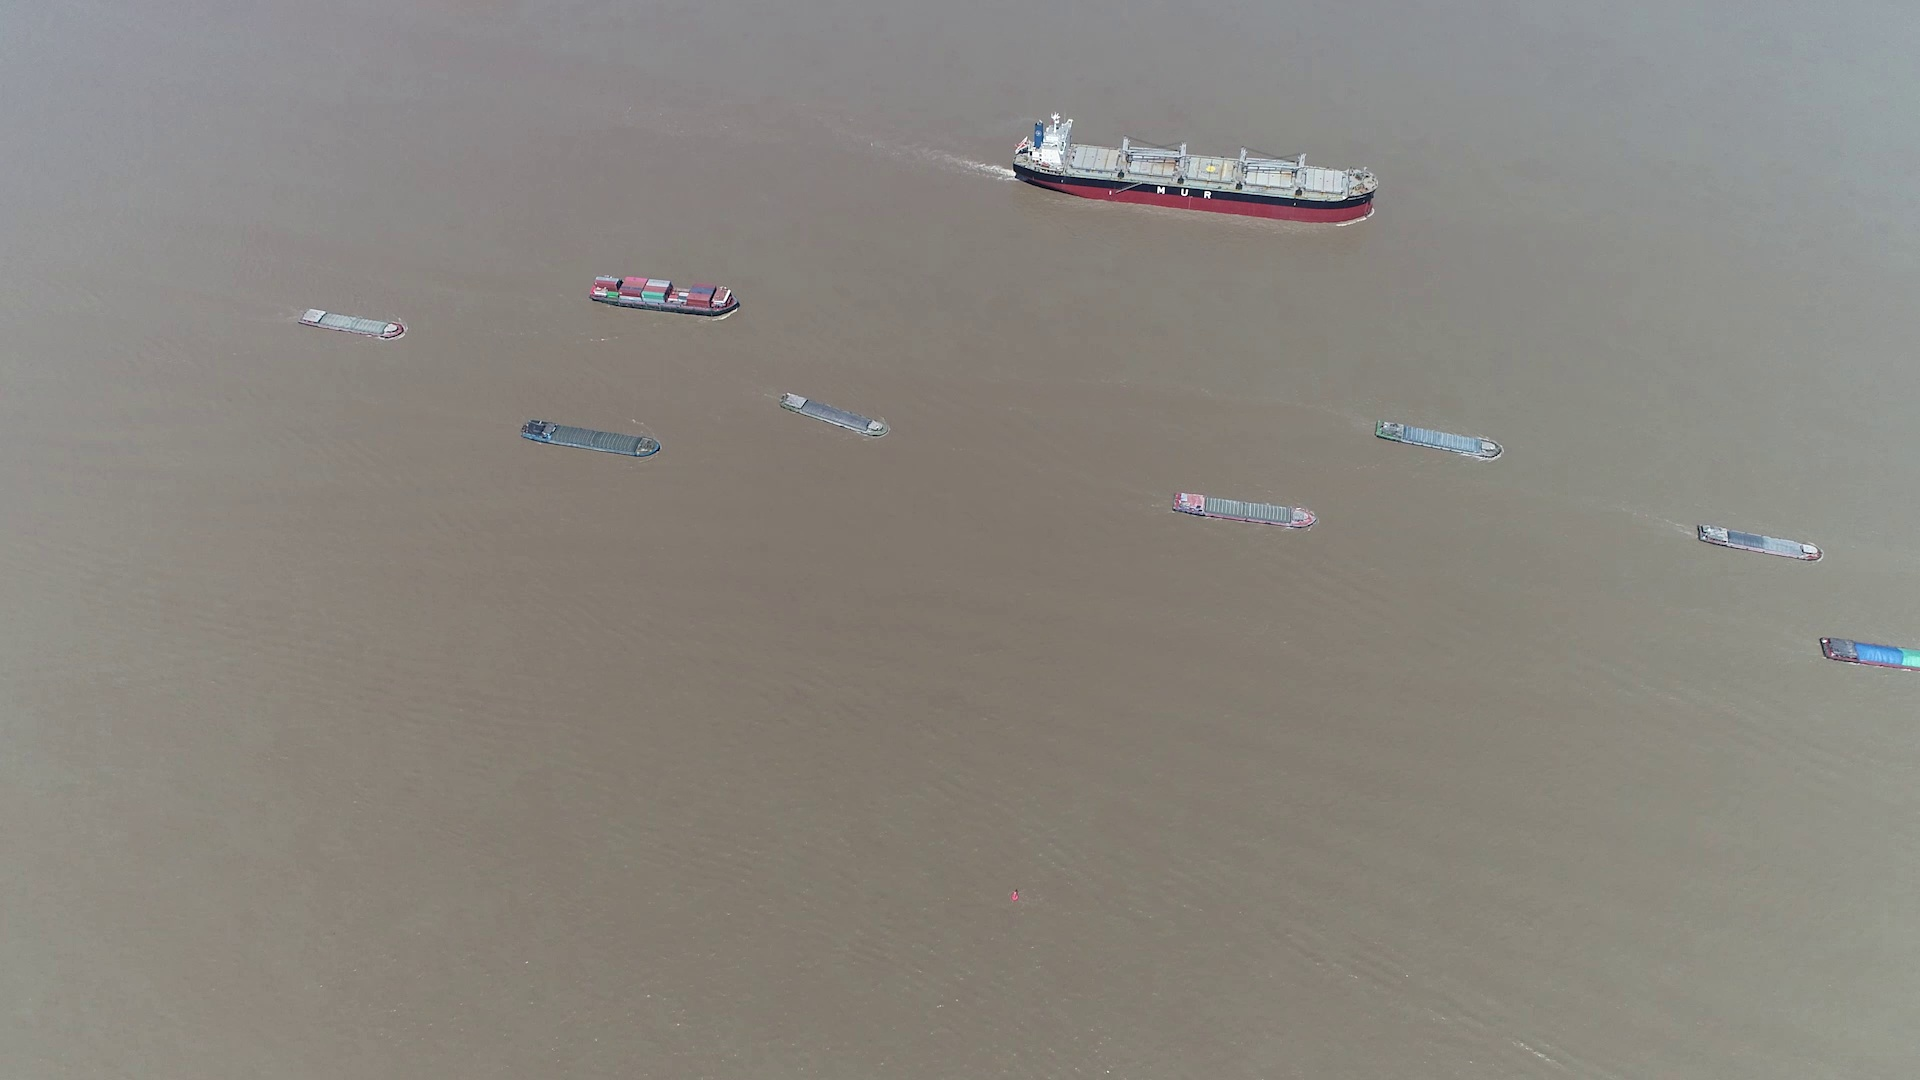ship: (1009, 116, 1375, 222), (587, 276, 738, 315), (1371, 417, 1505, 462), (1171, 491, 1317, 530), (522, 419, 663, 459), (777, 393, 890, 440), (1697, 522, 1822, 562), (1821, 637, 1919, 673), (298, 309, 407, 339)
